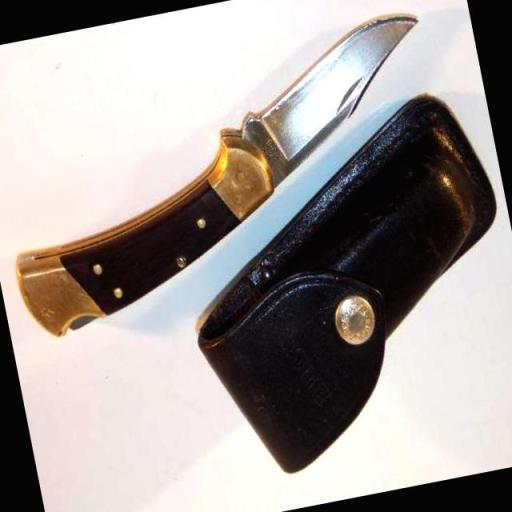knife: (186, 5, 460, 221)
